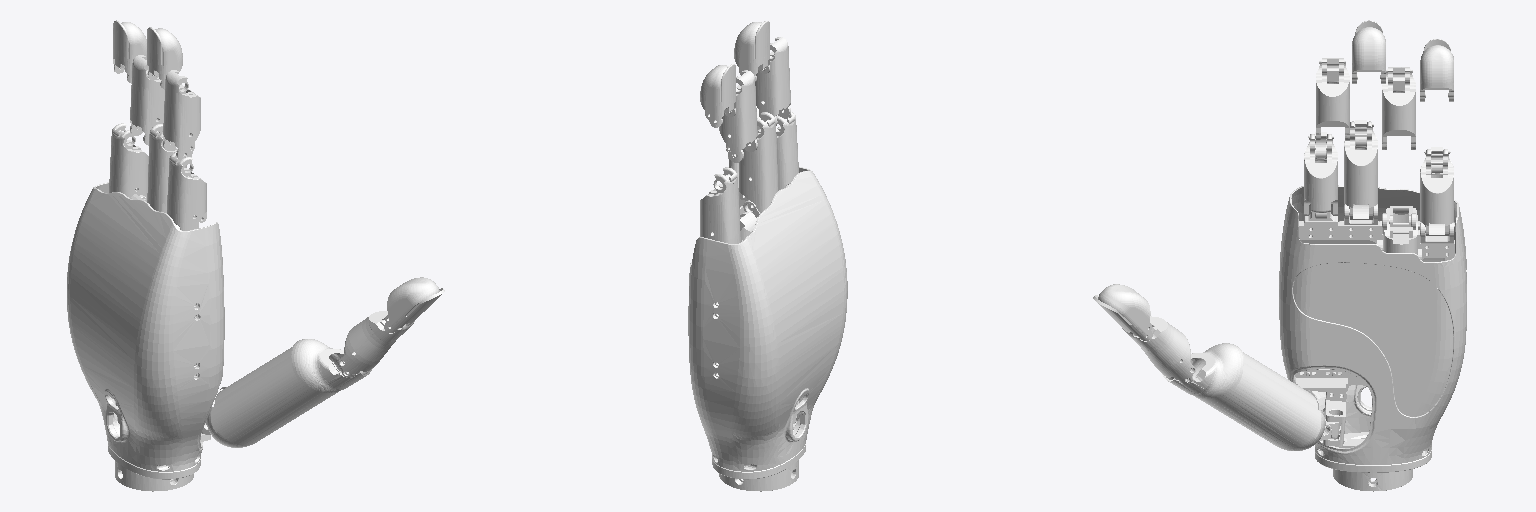
URDF robot description (zwhand_17dof_left):
<?xml version="1.0" encoding="utf-8"?>
<!-- This URDF was automatically created by SolidWorks to URDF Exporter! Originally created by Stephen Brawner (brawner@gmail.com) 
     Commit Version: 1.6.0-4-g7f85cfe  Build Version: 1.6.7995.38578
     For more information, please see http://wiki.ros.org/sw_urdf_exporter -->
<robot
  name="zwhand_17dof_left">
  <link
    name="base_link">
    <inertial>
      <origin
        xyz="-0.000665362536275292 0.000429152319376647 0.0585734122760588"
        rpy="0 0 0" />
      <mass
        value="0.0385843346295589" />
      <inertia
        ixx="4.77356774978713E-05"
        ixy="-1.33411467644044E-08"
        ixz="1.18868985582911E-07"
        iyy="3.16765609974547E-05"
        iyz="-6.12341578052794E-07"
        izz="1.95374414009174E-05" />
    </inertial>
    <visual>
      <origin
        xyz="0 0 0"
        rpy="0 0 0" />
      <geometry>
        <mesh
          filename="package://zwhand_17dof_left/meshes/base_link.STL" />
      </geometry>
      <material
        name="">
        <color
          rgba="1 1 1 1" />
      </material>
    </visual>
    <collision>
      <origin
        xyz="0 0 0"
        rpy="0 0 0" />
      <geometry>
        <mesh
          filename="package://zwhand_17dof_left/meshes/base_link.STL" />
      </geometry>
    </collision>
  </link>
  <link
    name="Link11">
    <inertial>
      <origin
        xyz="0.00439408811139754 -0.00911765065399595 0.00044871006172668"
        rpy="0 0 0" />
      <mass
        value="0.00138305741020588" />
      <inertia
        ixx="7.59113043365004E-08"
        ixy="2.30497822999331E-08"
        ixz="1.05687197853023E-10"
        iyy="5.246976242615E-08"
        iyz="1.35533885534063E-10"
        izz="1.16505696809913E-07" />
    </inertial>
    <visual>
      <origin
        xyz="0 0 0"
        rpy="0 0 0" />
      <geometry>
        <mesh
          filename="package://zwhand_17dof_left/meshes/Link11.STL" />
      </geometry>
      <material
        name="">
        <color
          rgba="1 1 1 1" />
      </material>
    </visual>
    <collision>
      <origin
        xyz="0 0 0"
        rpy="0 0 0" />
      <geometry>
        <mesh
          filename="package://zwhand_17dof_left/meshes/Link11.STL" />
      </geometry>
    </collision>
  </link>
  <joint
    name="Joint16"
    type="revolute">
    <origin
      xyz="0.0145000000000013 -0.019175845396938 0.032866829933102"
      rpy="-0.0872664625997253 0 0" />
    <parent
      link="base_link" />
    <child
      link="Link11" />
    <axis
      xyz="0 0 1" />
    <limit
      lower="0"
      upper="1.0472"
      effort="1"
      velocity="1" />
  </joint>
  <link
    name="Link12">
    <inertial>
      <origin
        xyz="-0.0193457288064523 -0.0970462057174385 0.00664758776330233"
        rpy="0 0 0" />
      <mass
        value="0.0984470630272566" />
      <inertia
        ixx="0.000585174590954754"
        ixy="-4.26494616303551E-06"
        ixz="1.17247059938109E-05"
        iyy="0.000248076456229318"
        iyz="-9.99315415835099E-06"
        izz="0.000805891897441605" />
    </inertial>
    <visual>
      <origin
        xyz="0 0 0"
        rpy="0 0 0" />
      <geometry>
        <mesh
          filename="package://zwhand_17dof_left/meshes/Link12.STL" />
      </geometry>
      <material
        name="">
        <color
          rgba="1 1 1 1" />
      </material>
    </visual>
    <collision>
      <origin
        xyz="0 0 0"
        rpy="0 0 0" />
      <geometry>
        <mesh
          filename="package://zwhand_17dof_left/meshes/Link12.STL" />
      </geometry>
    </collision>
  </link>
  <joint
    name="Joint3"
    type="revolute">
    <origin
      xyz="8.55267492552558E-05 -0.0225481366751174 0.00218716640100595"
      rpy="-1.5707963267949 0 -1.04719755119662" />
    <parent
      link="Link11" />
    <child
      link="Link12" />
    <axis
      xyz="0 0 -1" />
    <limit
      lower="0"
      upper="0.7854"
      effort="1"
      velocity="1" />
  </joint>
  <link
    name="Link13">
    <inertial>
      <origin
        xyz="0.011202607163177 -0.0161886608049256 -0.00825005840401396"
        rpy="0 0 0" />
      <mass
        value="0.00563386947432946" />
      <inertia
        ixx="6.49912296716302E-07"
        ixy="2.38322274804655E-07"
        ixz="-8.43114954825691E-13"
        iyy="6.9921432625115E-07"
        iyz="-3.81493429155989E-13"
        izz="8.14920242380477E-07" />
    </inertial>
    <visual>
      <origin
        xyz="0 0 0"
        rpy="0 0 0" />
      <geometry>
        <mesh
          filename="package://zwhand_17dof_left/meshes/Link13.STL" />
      </geometry>
      <material
        name="">
        <color
          rgba="1 1 1 1" />
      </material>
    </visual>
    <collision>
      <origin
        xyz="0 0 0"
        rpy="0 0 0" />
      <geometry>
        <mesh
          filename="package://zwhand_17dof_left/meshes/Link13.STL" />
      </geometry>
    </collision>
  </link>
  <joint
    name="Joint2"
    type="revolute">
    <origin
      xyz="0.0754452633218026 -0.0430611453900553 0.01845"
      rpy="0 0 0" />
    <parent
      link="Link12" />
    <child
      link="Link13" />
    <axis
      xyz="0 0 -1" />
    <limit
      lower="0"
      upper="1.2217"
      effort="1"
      velocity="1" />
  </joint>
  <link
    name="Link14">
    <inertial>
      <origin
        xyz="0.00912335650691751 -0.0132872172631343 -0.00819758291292656"
        rpy="0 0 0" />
      <mass
        value="0.00648852431372067" />
      <inertia
        ixx="4.01224481067621E-07"
        ixy="9.231707597789E-08"
        ixz="-4.70592158523467E-12"
        iyy="4.21613805872039E-07"
        iyz="-2.62778917769055E-12"
        izz="4.37154836305582E-07" />
    </inertial>
    <visual>
      <origin
        xyz="0 0 0"
        rpy="0 0 0" />
      <geometry>
        <mesh
          filename="package://zwhand_17dof_left/meshes/Link14.STL" />
      </geometry>
      <material
        name="">
        <color
          rgba="1 1 1 1" />
      </material>
    </visual>
    <collision>
      <origin
        xyz="0 0 0"
        rpy="0 0 0" />
      <geometry>
        <mesh
          filename="package://zwhand_17dof_left/meshes/Link14.STL" />
      </geometry>
    </collision>
  </link>
  <joint
    name="Joint1"
    type="revolute">
    <origin
      xyz="0.026080516434841 -0.0282252807189571 -5.23885481902089E-05"
      rpy="0 0 0" />
    <parent
      link="Link13" />
    <child
      link="Link14" />
    <axis
      xyz="0 0 -1" />
    <limit
      lower="0"
      upper="1.3963"
      effort="1"
      velocity="1" />
  </joint>
  <link
    name="Link21">
    <inertial>
      <origin
        xyz="-1.99944541305619E-08 3.46676293505599E-08 0.00478412417325754"
        rpy="0 0 0" />
      <mass
        value="0.000175293148492888" />
      <inertia
        ixx="3.20326613804737E-09"
        ixy="1.95339875476183E-15"
        ixz="-1.85926689618895E-15"
        iyy="2.99432681410188E-09"
        iyz="1.39840023510881E-15"
        izz="9.33097487974611E-10" />
    </inertial>
    <visual>
      <origin
        xyz="0 0 0"
        rpy="0 0 0" />
      <geometry>
        <mesh
          filename="package://zwhand_17dof_left/meshes/Link21.STL" />
      </geometry>
      <material
        name="">
        <color
          rgba="1 1 1 1" />
      </material>
    </visual>
    <collision>
      <origin
        xyz="0 0 0"
        rpy="0 0 0" />
      <geometry>
        <mesh
          filename="package://zwhand_17dof_left/meshes/Link21.STL" />
      </geometry>
    </collision>
  </link>
  <joint
    name="Joint17"
    type="revolute">
    <origin
      xyz="-0.003 -0.026 0.1465"
      rpy="-1.5708 0 -1.5708" />
    <parent
      link="base_link" />
    <child
      link="Link21" />
    <axis
      xyz="0 0 1" />
    <limit
      lower="0"
      upper="0.1745"
      effort="1"
      velocity="1" />
  </joint>
  <link
    name="Link22">
    <inertial>
      <origin
        xyz="-0.00159268176425252 0.0178802121706692 9.36361533254715E-06"
        rpy="0 0 0" />
      <mass
        value="0.00353149930058254" />
      <inertia
        ixx="5.02206916260674E-07"
        ixy="4.81072248366593E-08"
        ixz="8.72269899306731E-11"
        iyy="2.14660813704943E-07"
        iyz="2.05431535327336E-10"
        izz="5.11195737471112E-07" />
    </inertial>
    <visual>
      <origin
        xyz="0 0 0"
        rpy="0 0 0" />
      <geometry>
        <mesh
          filename="package://zwhand_17dof_left/meshes/Link22.STL" />
      </geometry>
      <material
        name="">
        <color
          rgba="1 1 1 1" />
      </material>
    </visual>
    <collision>
      <origin
        xyz="0 0 0"
        rpy="0 0 0" />
      <geometry>
        <mesh
          filename="package://zwhand_17dof_left/meshes/Link22.STL" />
      </geometry>
    </collision>
  </link>
  <joint
    name="Joint6"
    type="revolute">
    <origin
      xyz="0 0 0.0075729"
      rpy="3.1416 -1.5708 0" />
    <parent
      link="Link21" />
    <child
      link="Link22" />
    <axis
      xyz="0 0 -1" />
    <limit
      lower="0"
      upper="1.5708"
      effort="1"
      velocity="1" />
  </joint>
  <link
    name="Link23">
    <inertial>
      <origin
        xyz="0.00173129166368025 0.0194041831510843 -0.00701961228435177"
        rpy="0 0 0" />
      <mass
        value="0.0033267012363065" />
      <inertia
        ixx="5.01796570591849E-07"
        ixy="1.80444765827316E-08"
        ixz="-3.44143459501015E-10"
        iyy="1.81807323555466E-07"
        iyz="2.51342592421128E-09"
        izz="4.84095845487014E-07" />
    </inertial>
    <visual>
      <origin
        xyz="0 0 0"
        rpy="0 0 0" />
      <geometry>
        <mesh
          filename="package://zwhand_17dof_left/meshes/Link23.STL" />
      </geometry>
      <material
        name="">
        <color
          rgba="1 1 1 1" />
      </material>
    </visual>
    <collision>
      <origin
        xyz="0 0 0"
        rpy="0 0 0" />
      <geometry>
        <mesh
          filename="package://zwhand_17dof_left/meshes/Link23.STL" />
      </geometry>
    </collision>
  </link>
  <joint
    name="Joint5"
    type="revolute">
    <origin
      xyz="-0.00309877969012365 0.0355000017901757 0.00710000021640794"
      rpy="0 0 0" />
    <parent
      link="Link22" />
    <child
      link="Link23" />
    <axis
      xyz="0 0 -1" />
    <limit
      lower="0"
      upper="1.5708"
      effort="1"
      velocity="1" />
  </joint>
  <link
    name="Link24">
    <inertial>
      <origin
        xyz="0.00212399088950623 0.014358809540157 -0.00685032342087634"
        rpy="0 0 0" />
      <mass
        value="0.00435670454057234" />
      <inertia
        ixx="2.61711034670062E-07"
        ixy="6.86051419420172E-09"
        ixz="-7.34747393166894E-12"
        iyy="1.60348278042487E-07"
        iyz="-1.03333124450363E-11"
        izz="2.35997672269181E-07" />
    </inertial>
    <visual>
      <origin
        xyz="0 0 0"
        rpy="0 0 0" />
      <geometry>
        <mesh
          filename="package://zwhand_17dof_left/meshes/Link24.STL" />
      </geometry>
      <material
        name="">
        <color
          rgba="1 1 1 1" />
      </material>
    </visual>
    <collision>
      <origin
        xyz="0 0 0"
        rpy="0 0 0" />
      <geometry>
        <mesh
          filename="package://zwhand_17dof_left/meshes/Link24.STL" />
      </geometry>
    </collision>
  </link>
  <joint
    name="Joint4"
    type="revolute">
    <origin
      xyz="0.000531009916053093 0.0359999999999983 -0.000249999999993443"
      rpy="0 0 0" />
    <parent
      link="Link23" />
    <child
      link="Link24" />
    <axis
      xyz="0 0 -1" />
    <limit
      lower="0"
      upper="1.3963"
      effort="1"
      velocity="1" />
  </joint>
  <link
    name="Link31">
    <inertial>
      <origin
        xyz="-0.000869431576225304 0.0209895419638196 -0.00499248846806704"
        rpy="0 0 0" />
      <mass
        value="0.00412900648242841" />
      <inertia
        ixx="8.3373153381872E-07"
        ixy="2.58850827627914E-08"
        ixz="4.9831831930378E-11"
        iyy="2.52598947795254E-07"
        iyz="8.97414923978584E-11"
        izz="8.50957770179142E-07" />
    </inertial>
    <visual>
      <origin
        xyz="0 0 0"
        rpy="0 0 0" />
      <geometry>
        <mesh
          filename="package://zwhand_17dof_left/meshes/Link31.STL" />
      </geometry>
      <material
        name="">
        <color
          rgba="1 1 1 1" />
      </material>
    </visual>
    <collision>
      <origin
        xyz="0 0 0"
        rpy="0 0 0" />
      <geometry>
        <mesh
          filename="package://zwhand_17dof_left/meshes/Link31.STL" />
      </geometry>
    </collision>
  </link>
  <joint
    name="Joint9"
    type="revolute">
    <origin
      xyz="0.004 -0.011 0.1465"
      rpy="1.5708 0 0" />
    <parent
      link="base_link" />
    <child
      link="Link31" />
    <axis
      xyz="0 0 -1" />
    <limit
      lower="0"
      upper="1.5708"
      effort="1"
      velocity="1" />
  </joint>
  <link
    name="Link32">
    <inertial>
      <origin
        xyz="0.00173129166368043 0.0194041831510847 -0.00701961228435179"
        rpy="0 0 0" />
      <mass
        value="0.00332670123630653" />
      <inertia
        ixx="5.01796570591846E-07"
        ixy="1.80444765827371E-08"
        ixz="-3.44143459500954E-10"
        iyy="1.81807323555468E-07"
        iyz="2.51342592420707E-09"
        izz="4.84095845487013E-07" />
    </inertial>
    <visual>
      <origin
        xyz="0 0 0"
        rpy="0 0 0" />
      <geometry>
        <mesh
          filename="package://zwhand_17dof_left/meshes/Link32.STL" />
      </geometry>
      <material
        name="">
        <color
          rgba="1 1 1 1" />
      </material>
    </visual>
    <collision>
      <origin
        xyz="0 0 0"
        rpy="0 0 0" />
      <geometry>
        <mesh
          filename="package://zwhand_17dof_left/meshes/Link32.STL" />
      </geometry>
    </collision>
  </link>
  <joint
    name="Joint8"
    type="revolute">
    <origin
      xyz="-0.00245529051210972 0.0422499999999829 0.00210000000000033"
      rpy="0 0 0" />
    <parent
      link="Link31" />
    <child
      link="Link32" />
    <axis
      xyz="0 0 -1" />
    <limit
      lower="0"
      upper="1.5708"
      effort="1"
      velocity="1" />
  </joint>
  <link
    name="Link33">
    <inertial>
      <origin
        xyz="0.00212399088950624 0.0143588095401571 -0.00685032342087634"
        rpy="0 0 0" />
      <mass
        value="0.00435670454057236" />
      <inertia
        ixx="2.61711034670064E-07"
        ixy="6.86051419420156E-09"
        ixz="-7.3474739319345E-12"
        iyy="1.60348278042487E-07"
        iyz="-1.03333124452299E-11"
        izz="2.35997672269182E-07" />
    </inertial>
    <visual>
      <origin
        xyz="0 0 0"
        rpy="0 0 0" />
      <geometry>
        <mesh
          filename="package://zwhand_17dof_left/meshes/Link33.STL" />
      </geometry>
      <material
        name="">
        <color
          rgba="1 1 1 1" />
      </material>
    </visual>
    <collision>
      <origin
        xyz="0 0 0"
        rpy="0 0 0" />
      <geometry>
        <mesh
          filename="package://zwhand_17dof_left/meshes/Link33.STL" />
      </geometry>
    </collision>
  </link>
  <joint
    name="Joint7"
    type="revolute">
    <origin
      xyz="0.000531009916053095 0.0360000000000283 -0.000249999999992786"
      rpy="0 0 0" />
    <parent
      link="Link32" />
    <child
      link="Link33" />
    <axis
      xyz="0 0 -1" />
    <limit
      lower="0"
      upper="1.3963"
      effort="1"
      velocity="1" />
  </joint>
  <link
    name="Link41">
    <inertial>
      <origin
        xyz="-0.000869431576225269 0.0209895419638197 -0.00499248846806708"
        rpy="0 0 0" />
      <mass
        value="0.00412900648242839" />
      <inertia
        ixx="8.33731533818721E-07"
        ixy="2.58850827627923E-08"
        ixz="4.9831831930199E-11"
        iyy="2.52598947795253E-07"
        iyz="8.97414923988465E-11"
        izz="8.50957770179143E-07" />
    </inertial>
    <visual>
      <origin
        xyz="0 0 0"
        rpy="0 0 0" />
      <geometry>
        <mesh
          filename="package://zwhand_17dof_left/meshes/Link41.STL" />
      </geometry>
      <material
        name="">
        <color
          rgba="1 1 1 1" />
      </material>
    </visual>
    <collision>
      <origin
        xyz="0 0 0"
        rpy="0 0 0" />
      <geometry>
        <mesh
          filename="package://zwhand_17dof_left/meshes/Link41.STL" />
      </geometry>
    </collision>
  </link>
  <joint
    name="Joint12"
    type="revolute">
    <origin
      xyz="0.004 0.008 0.1415"
      rpy="1.5708 0 0" />
    <parent
      link="base_link" />
    <child
      link="Link41" />
    <axis
      xyz="0 0 -1" />
    <limit
      lower="0"
      upper="1.5708"
      effort="1"
      velocity="1" />
  </joint>
  <link
    name="Link42">
    <inertial>
      <origin
        xyz="0.00173129166368033 0.0194041831510845 -0.00701961228435175"
        rpy="0 0 0" />
      <mass
        value="0.00332670123630652" />
      <inertia
        ixx="5.01796570591847E-07"
        ixy="1.80444765827356E-08"
        ixz="-3.44143459501449E-10"
        iyy="1.81807323555467E-07"
        iyz="2.51342592420915E-09"
        izz="4.84095845487013E-07" />
    </inertial>
    <visual>
      <origin
        xyz="0 0 0"
        rpy="0 0 0" />
      <geometry>
        <mesh
          filename="package://zwhand_17dof_left/meshes/Link42.STL" />
      </geometry>
      <material
        name="">
        <color
          rgba="1 1 1 1" />
      </material>
    </visual>
    <collision>
      <origin
        xyz="0 0 0"
        rpy="0 0 0" />
      <geometry>
        <mesh
          filename="package://zwhand_17dof_left/meshes/Link42.STL" />
      </geometry>
    </collision>
  </link>
  <joint
    name="Joint11"
    type="revolute">
    <origin
      xyz="-0.00245529051210972 0.042249999999983 0.00210000000000033"
      rpy="0 0 0" />
    <parent
      link="Link41" />
    <child
      link="Link42" />
    <axis
      xyz="0 0 -1" />
    <limit
      lower="0"
      upper="1.3963"
      effort="1"
      velocity="1" />
  </joint>
  <link
    name="Link43">
    <inertial>
      <origin
        xyz="0.00212399088950624 0.0143588095401571 -0.00685032342087633"
        rpy="0 0 0" />
      <mass
        value="0.00435670454057232" />
      <inertia
        ixx="2.61711034670061E-07"
        ixy="6.86051419420196E-09"
        ixz="-7.34747393176319E-12"
        iyy="1.60348278042486E-07"
        iyz="-1.03333124450329E-11"
        izz="2.3599767226918E-07" />
    </inertial>
    <visual>
      <origin
        xyz="0 0 0"
        rpy="0 0 0" />
      <geometry>
        <mesh
          filename="package://zwhand_17dof_left/meshes/Link43.STL" />
      </geometry>
      <material
        name="">
        <color
          rgba="1 1 1 1" />
      </material>
    </visual>
    <collision>
      <origin
        xyz="0 0 0"
        rpy="0 0 0" />
      <geometry>
        <mesh
          filename="package://zwhand_17dof_left/meshes/Link43.STL" />
      </geometry>
    </collision>
  </link>
  <joint
    name="Joint10"
    type="revolute">
    <origin
      xyz="0.000531009916054976 0.0360000000000272 -0.000249999999992787"
      rpy="0 0 0" />
    <parent
      link="Link42" />
    <child
      link="Link43" />
    <axis
      xyz="0 0 -1" />
    <limit
      lower="0"
      upper="1.3963"
      effort="1"
      velocity="1" />
  </joint>
  <link
    name="Link51">
    <inertial>
      <origin
        xyz="-0.00116330985591655 0.018814841892457 -0.00499285693393129"
        rpy="0 0 0" />
      <mass
        value="0.00365895619048566" />
      <inertia
        ixx="5.89132787764106E-07"
        ixy="2.73655605674345E-08"
        ixz="4.41581503344011E-11"
        iyy="2.19961172347424E-07"
        iyz="8.09516563344114E-11"
        izz="6.02038239082363E-07" />
    </inertial>
    <visual>
      <origin
        xyz="0 0 0"
        rpy="0 0 0" />
      <geometry>
        <mesh
          filename="package://zwhand_17dof_left/meshes/Link51.STL" />
      </geometry>
      <material
        name="">
        <color
          rgba="1 1 1 1" />
      </material>
    </visual>
    <collision>
      <origin
        xyz="0 0 0"
        rpy="0 0 0" />
      <geometry>
        <mesh
          filename="package://zwhand_17dof_left/meshes/Link51.STL" />
      </geometry>
    </collision>
  </link>
  <joint
    name="Joint15"
    type="revolute">
    <origin
      xyz="0.00400000000000059 0.0269999999999997 0.1365"
      rpy="1.5707963267949 0 0" />
    <parent
      link="base_link" />
    <child
      link="Link51" />
    <axis
      xyz="0 0 -1" />
    <limit
      lower="0"
      upper="1.5708"
      effort="1"
      velocity="1" />
  </joint>
  <link
    name="Link52">
    <inertial>
      <origin
        xyz="0.00173129166368038 0.0194041831510846 -0.00701961228435175"
        rpy="0 0 0" />
      <mass
        value="0.00332670123630648" />
      <inertia
        ixx="5.01796570591838E-07"
        ixy="1.80444765827345E-08"
        ixz="-3.44143459501777E-10"
        iyy="1.81807323555466E-07"
        iyz="2.5134259242087E-09"
        izz="4.84095845487003E-07" />
    </inertial>
    <visual>
      <origin
        xyz="0 0 0"
        rpy="0 0 0" />
      <geometry>
        <mesh
          filename="package://zwhand_17dof_left/meshes/Link52.STL" />
      </geometry>
      <material
        name="">
        <color
          rgba="1 1 1 1" />
      </material>
    </visual>
    <collision>
      <origin
        xyz="0 0 0"
        rpy="0 0 0" />
      <geometry>
        <mesh
          filename="package://zwhand_17dof_left/meshes/Link52.STL" />
      </geometry>
    </collision>
  </link>
  <joint
    name="Joint14"
    type="revolute">
    <origin
      xyz="-0.00249695382373872 0.037249999999983 0.00210000000000033"
      rpy="0 0 0" />
    <parent
      link="Link51" />
    <child
      link="Link52" />
    <axis
      xyz="0 0 -1" />
    <limit
      lower="0"
      upper="1.5708"
      effort="1"
      velocity="1" />
  </joint>
  <link
    name="Link53">
    <inertial>
      <origin
        xyz="0.00212399088950624 0.0143588095401571 -0.00685032342087633"
        rpy="0 0 0" />
      <mass
        value="0.00435670454057234" />
      <inertia
        ixx="2.61711034670061E-07"
        ixy="6.86051419420143E-09"
        ixz="-7.3474739317253E-12"
        iyy="1.60348278042486E-07"
        iyz="-1.033331244591E-11"
        izz="2.3599767226918E-07" />
    </inertial>
    <visual>
      <origin
        xyz="0 0 0"
        rpy="0 0 0" />
      <geometry>
        <mesh
          filename="package://zwhand_17dof_left/meshes/Link53.STL" />
      </geometry>
      <material
        name="">
        <color
          rgba="1 1 1 1" />
      </material>
    </visual>
    <collision>
      <origin
        xyz="0 0 0"
        rpy="0 0 0" />
      <geometry>
        <mesh
          filename="package://zwhand_17dof_left/meshes/Link53.STL" />
      </geometry>
    </collision>
  </link>
  <joint
    name="Joint13"
    type="revolute">
    <origin
      xyz="0.000531009916049095 0.0360000000000283 -0.00024999999999278"
      rpy="0 0 0" />
    <parent
      link="Link52" />
    <child
      link="Link53" />
    <axis
      xyz="0 0 -1" />
    <limit
      lower="0"
      upper="1.3963"
      effort="1"
      velocity="1" />
  </joint>
</robot>

--- Facts derived from the render (not from the file) ---
Views: 3 orthographic renders of the robot side by side, from view 1: azimuth 30°, elevation 25°; view 2: azimuth 150°, elevation 25°; view 3: azimuth 270°, elevation 25°.
Robot: zwhand_17dof_left — 18 links, 17 joints (17 revolute); root link base_link; default pose: every joint at zero.
Visible links, largest first — view 1: base_link, Link12, Link32, Link13, Link22, Link51, Link42, Link14, Link31, Link43, Link53; view 2: base_link, Link31, Link51, Link42, Link32, Link53, Link43, Link22; view 3: base_link, Link12, Link31, Link51, Link22, Link32, Link42, Link13, Link14, Link43, Link53, Link41.
Boxes of the visible links, x1,y1,x2,y2 form: base_link: (67, 182, 224, 491); Link12: (206, 339, 372, 447); Link32: (163, 70, 200, 160); Link13: (339, 311, 414, 377); Link22: (167, 151, 206, 230); Link51: (109, 123, 148, 197); Link42: (130, 55, 164, 145); Link14: (384, 277, 444, 332); Link31: (147, 124, 186, 212); Link43: (147, 27, 182, 89); Link53: (113, 20, 146, 83); base_link: (688, 167, 847, 491); Link31: (739, 112, 777, 212); Link51: (700, 167, 740, 243); Link42: (719, 70, 757, 162); Link32: (755, 37, 790, 125); Link53: (700, 64, 735, 127); Link43: (734, 21, 769, 81); Link22: (776, 112, 798, 190); base_link: (1279, 185, 1466, 491); Link12: (1162, 343, 1325, 450); Link31: (1344, 120, 1377, 219); Link51: (1420, 147, 1453, 235); Link22: (1304, 132, 1337, 215); Link32: (1316, 58, 1349, 140); Link42: (1382, 67, 1415, 149); Link13: (1122, 316, 1195, 383); Link14: (1093, 284, 1152, 340); Link43: (1352, 20, 1385, 83); Link53: (1420, 39, 1453, 101); Link41: (1384, 206, 1417, 254).
Bounding box of the posed robot: 0.1217 × 0.1868 × 0.2487 m (x, y, z).
Meshes: 18 distinct files referenced, 14 mesh visuals loaded (14 binary STL); not drawn: 4 (reference not matched to a file when rendering).
